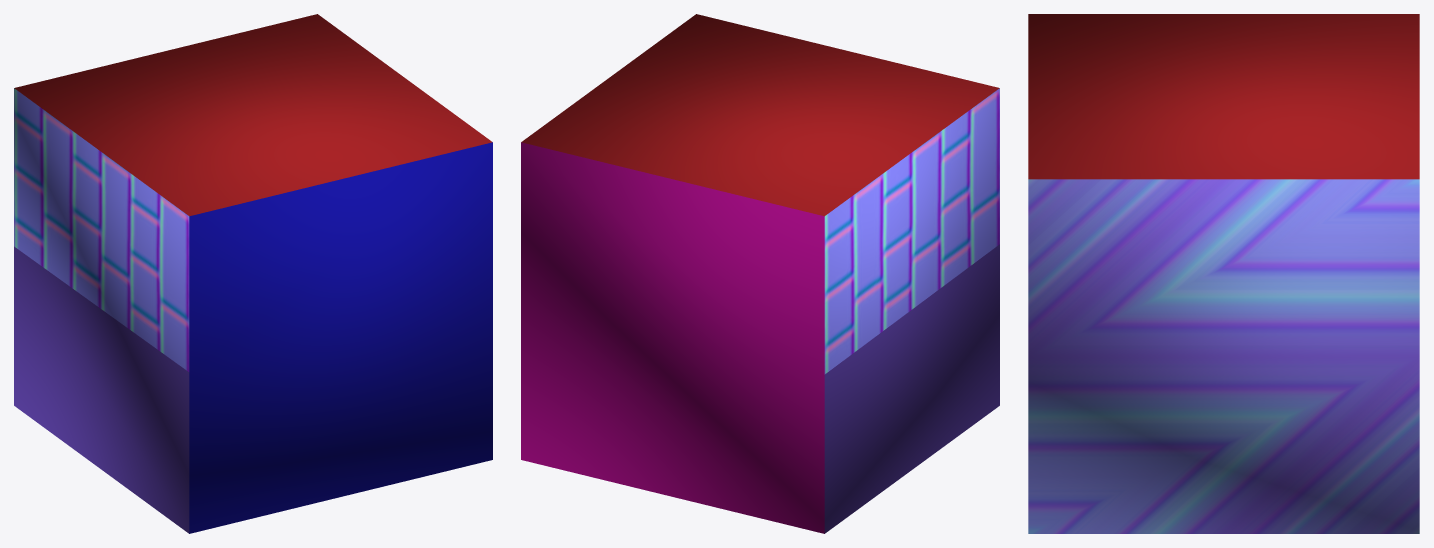
The model's file is clown.obj.
3 views of the same model, side by side, from view 1: azimuth 30°, elevation 25°; view 2: azimuth 150°, elevation 25°; view 3: azimuth 270°, elevation 25° (orthographic). The views are drawn at different scales.
Visible parts, largest first — view 1: Cube; view 2: Cube; view 3: Cube.
Boxes of the visible parts, x1,y1,x2,y2 form: Cube: (14, 14, 492, 533); Cube: (521, 14, 999, 533); Cube: (1028, 14, 1419, 533).
Size of the model in its own units: 3.78 by 3.78 by 3.78.
Materials: 7 (3 with a texture image).
